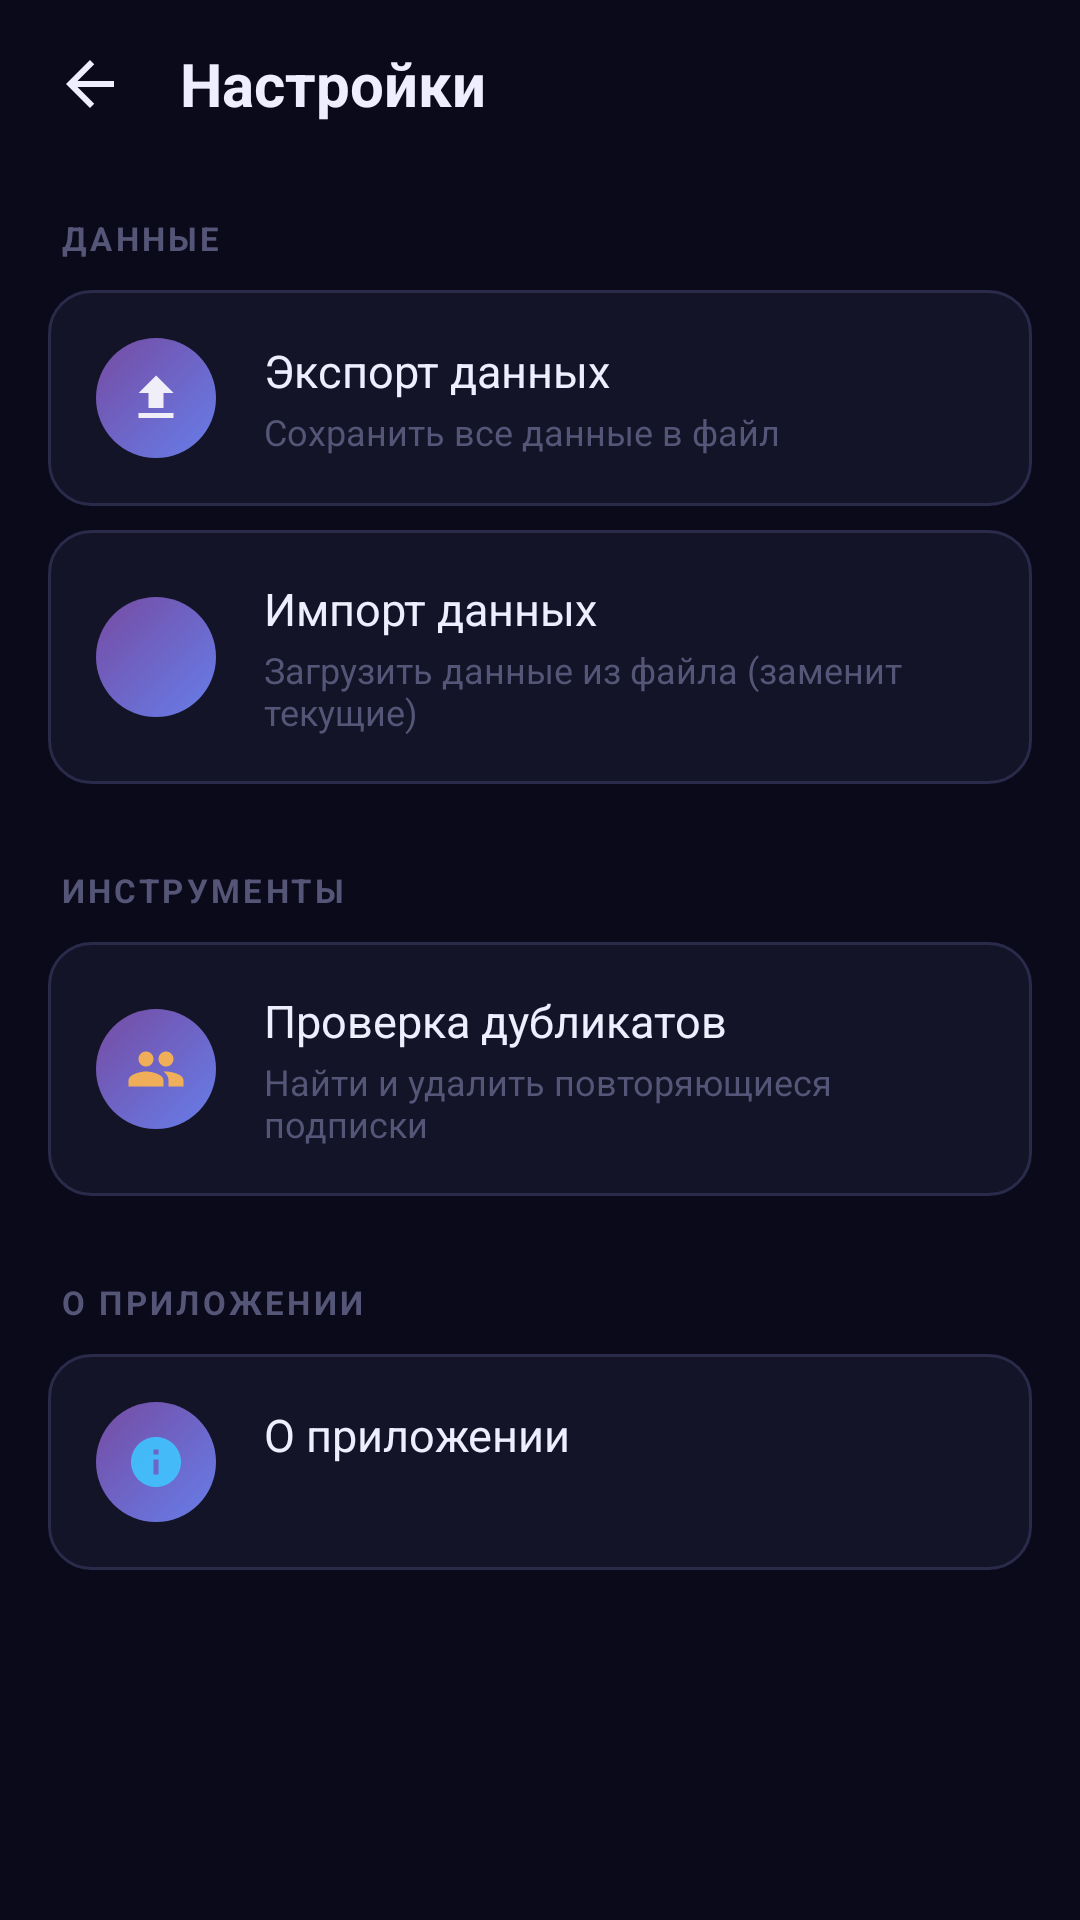

Point at icon controls on the screen. Image size 1080px x 1920px, points as (x,y).
back: (90,84)
export: (156,396)
info: (156,1462)
